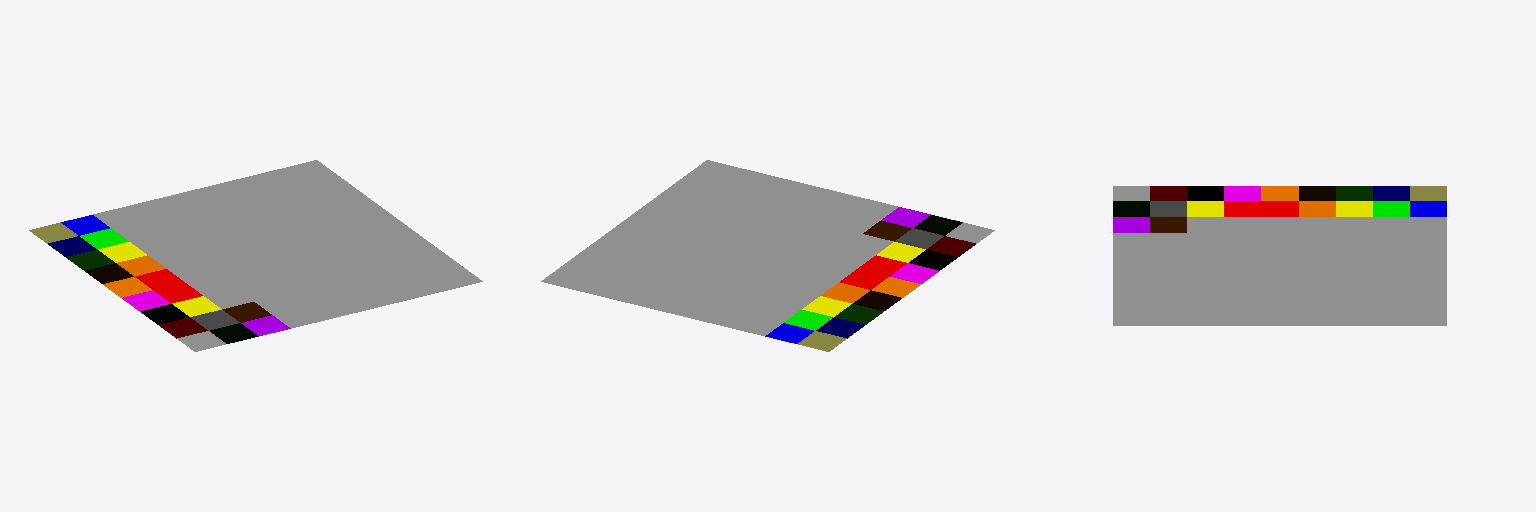
Rendered from colors.obj.
3 views of the same model, side by side, from view 1: azimuth 30°, elevation 25°; view 2: azimuth 150°, elevation 25°; view 3: azimuth 270°, elevation 25° (orthographic).
Parts seen in each view (by area): view 1: Grid; view 2: Grid; view 3: Grid.
Part boxes in pixels (left/top/right/bottom): Grid: left=29, top=160, right=482, bottom=351; Grid: left=541, top=160, right=994, bottom=351; Grid: left=1113, top=186, right=1446, bottom=325.
Size of the model in its own units: 2 by 0 by 2.